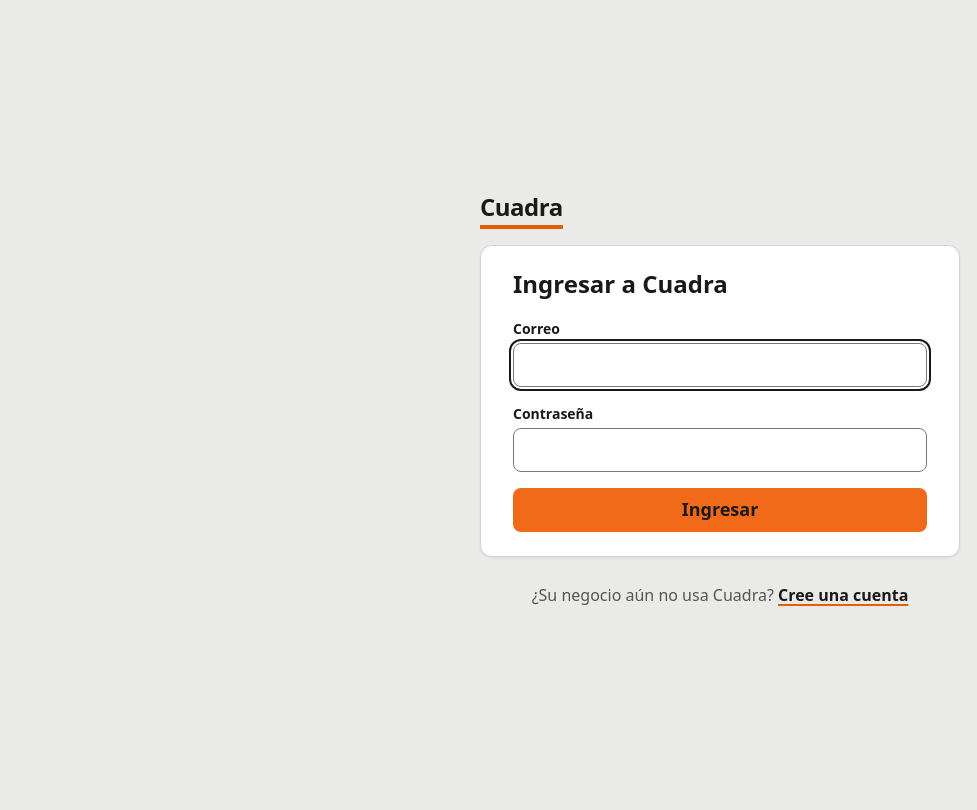
it: LoginPage › inicia sesión y vuelve a la ruta que se había pedido
The width and height of the screenshot is (977, 810).
Step 1. Type "ana@eltornillo.co" into the field labelled "Correo" → [720, 365], box [513,343,927,387]
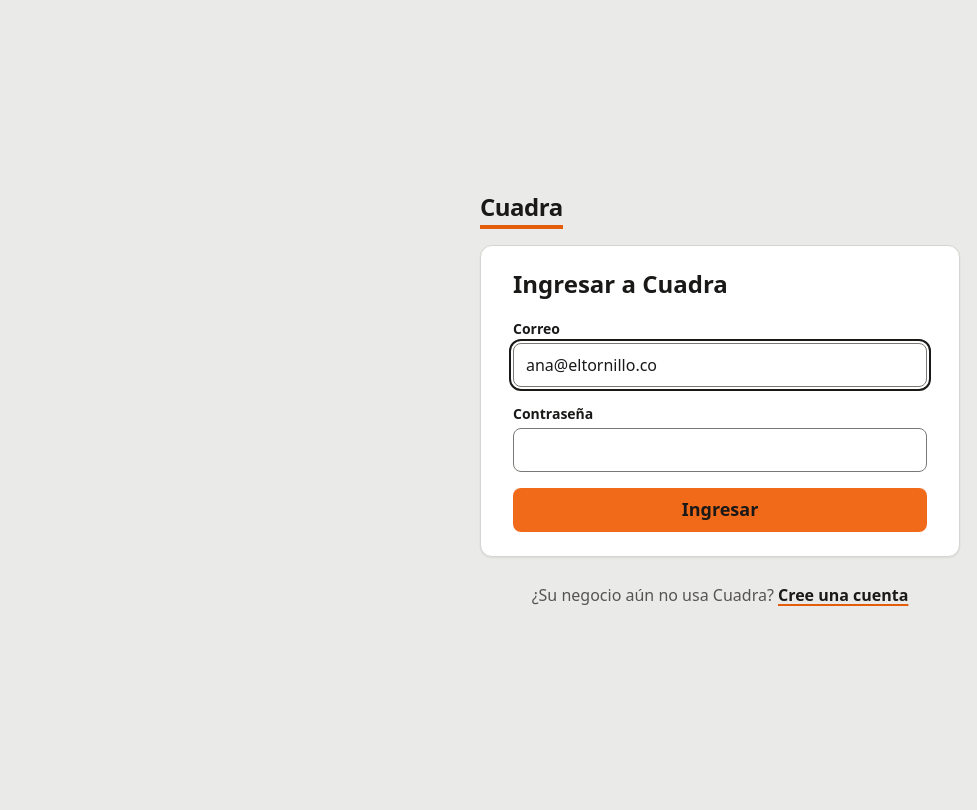
Step 2. Type "clave-segura" into the password field labelled "Contraseña" → [720, 450], box [513,428,927,472]
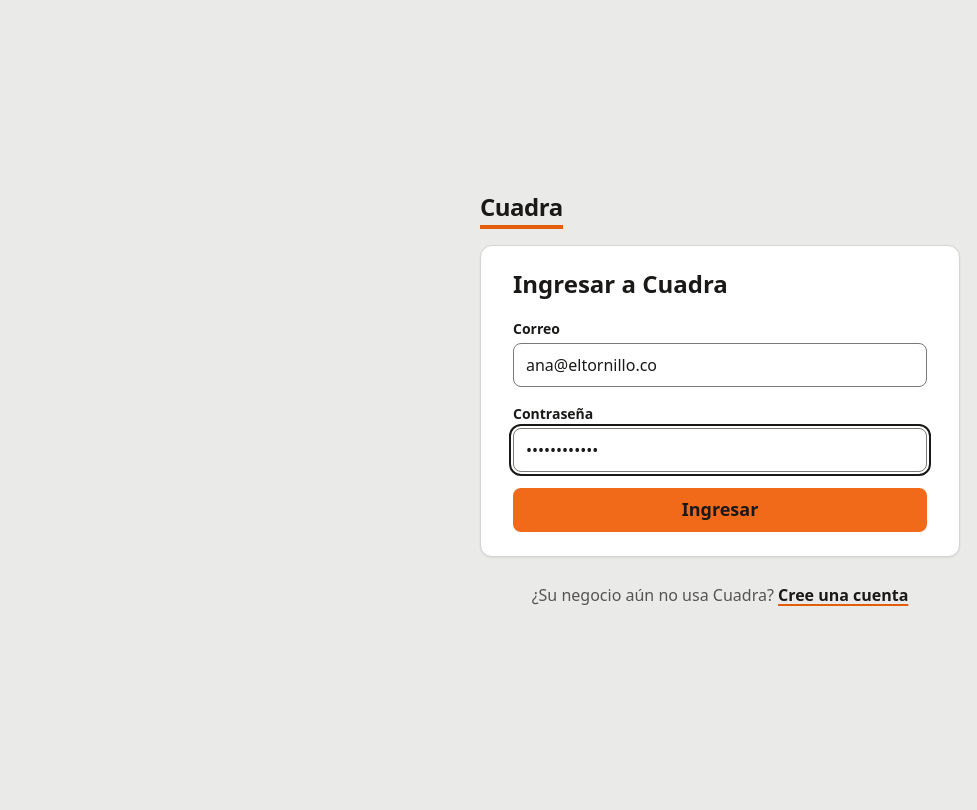
Step 3. Click the button "Ingresar" → [720, 510], box [513,488,927,532]
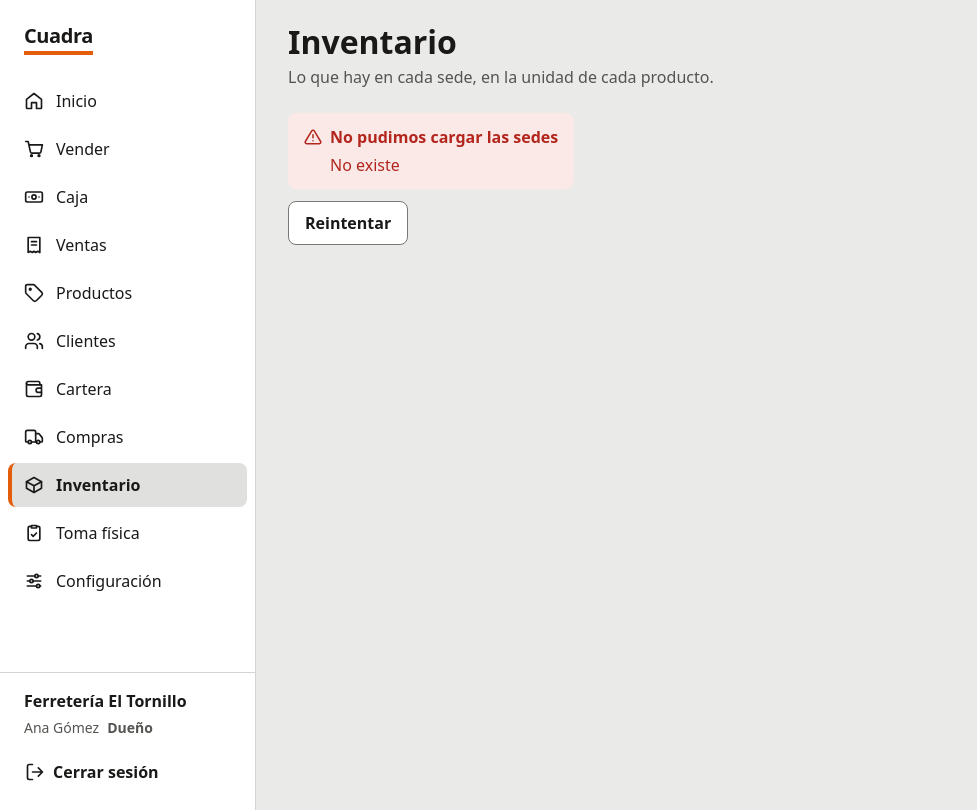
expect the heading "Inventario" is shown: met, box [288,20,457,63]
